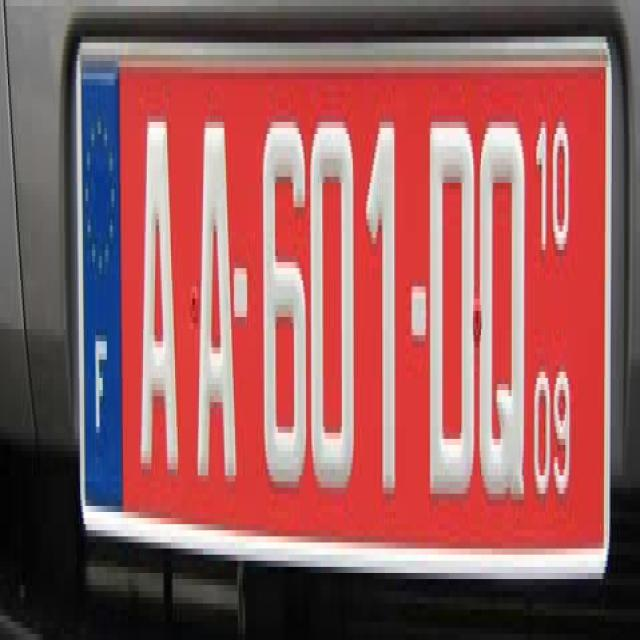EU: (77, 36, 610, 565)
France: (81, 61, 123, 511)
